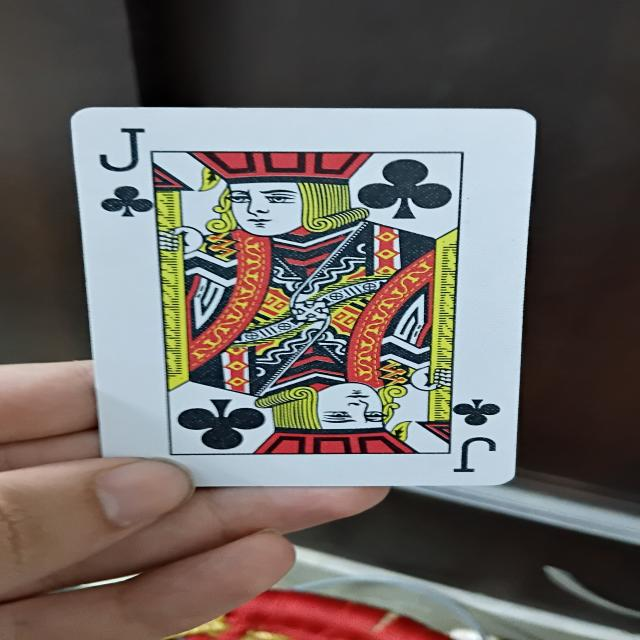JC: (66, 103, 526, 491)
